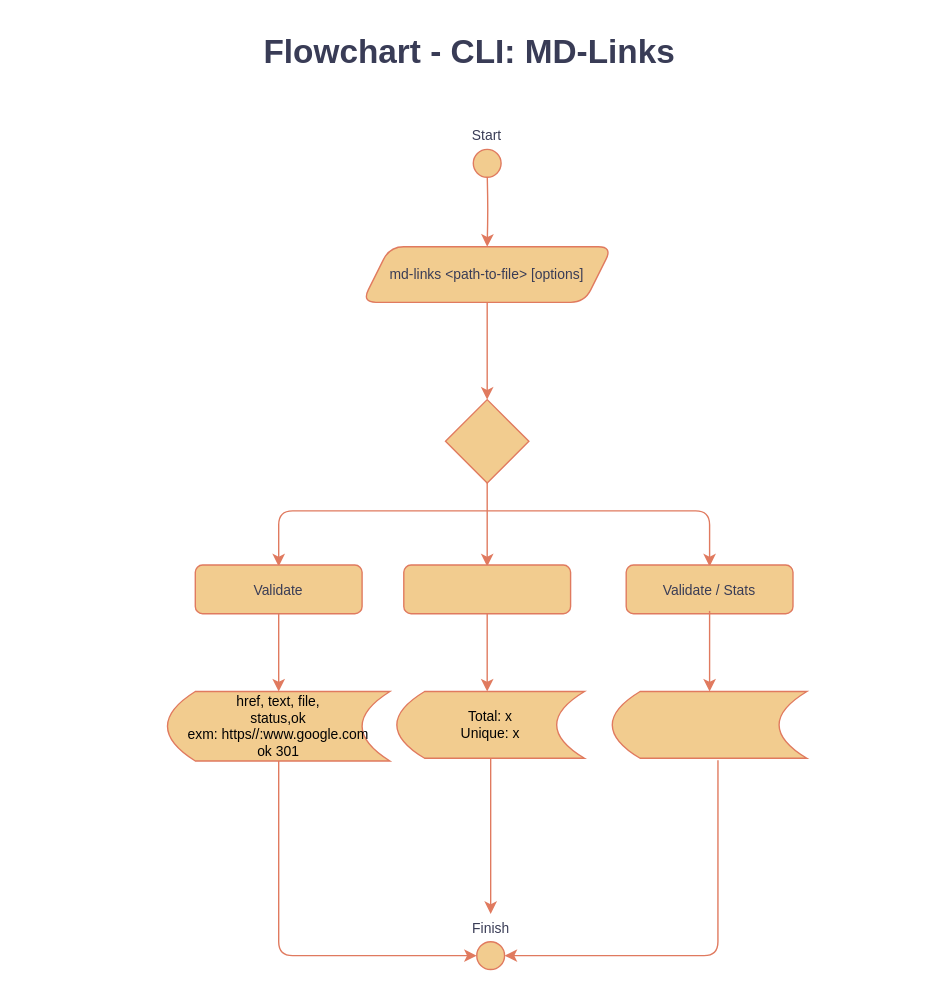
This 937x994 diagram has some shape labels left out. Each missing label, with the centre of its shape:
Options: the point at 486,440
Stats: the point at 486,589
Total: x Unique: x Broken: x: the point at 709,724
